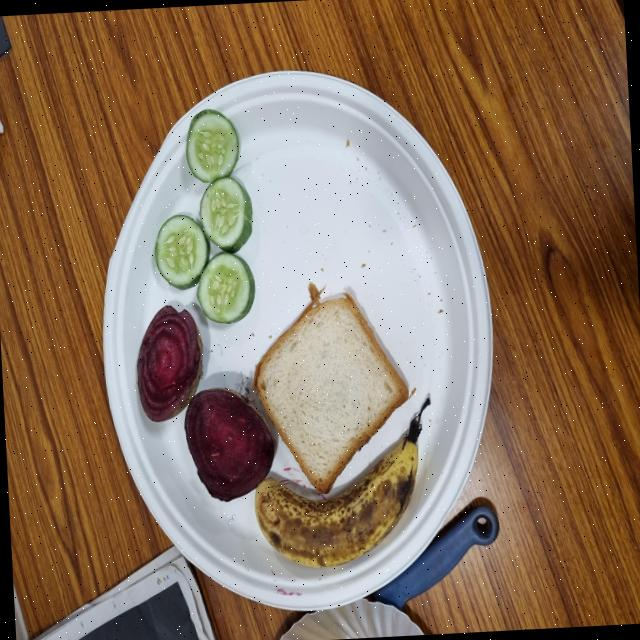banana: (58, 341, 172, 562)
cucumber: (261, 212, 323, 288), (239, 272, 298, 349), (343, 257, 401, 333), (294, 273, 351, 348)
